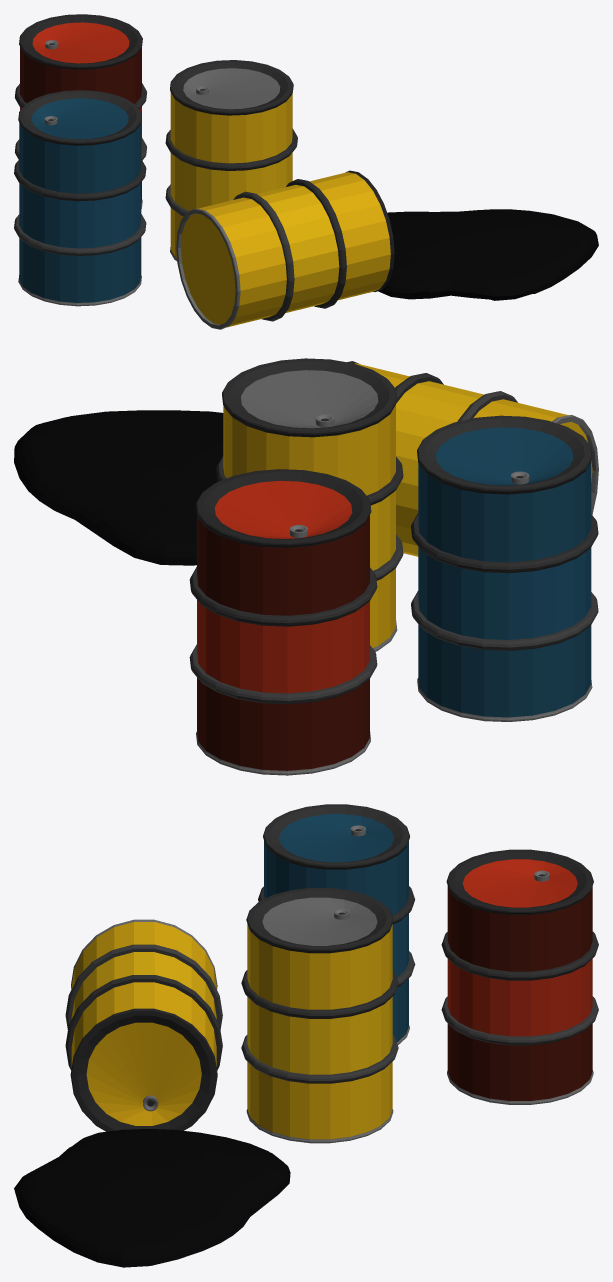
File: oil2.glb
The picture shows the model from 3 angles, top to bottom: view 1: azimuth 30°, elevation 25°; view 2: azimuth 150°, elevation 25°; view 3: azimuth 270°, elevation 25°; orthographic projection. The views are drawn at different scales.
Visible parts, largest first — view 1: PP_Oil_barrel_yellow01, PP_Oil_barrel_blue, PP_Oil_barrel_yellow02, PP_Oil_stain, PP_Oil_barrel_red; view 2: PP_Oil_barrel_blue, PP_Oil_barrel_red, PP_Oil_stain, PP_Oil_barrel_yellow02, PP_Oil_barrel_yellow01; view 3: PP_Oil_barrel_yellow02, PP_Oil_barrel_red, PP_Oil_barrel_yellow01, PP_Oil_stain, PP_Oil_barrel_blue.
Boxes of the visible parts, <box> form: PP_Oil_barrel_yellow01: <box>176,170,394,329</box>; PP_Oil_barrel_blue: <box>14,90,146,306</box>; PP_Oil_barrel_yellow02: <box>165,60,297,261</box>; PP_Oil_stain: <box>378,209,598,300</box>; PP_Oil_barrel_red: <box>14,14,146,208</box>; PP_Oil_barrel_blue: <box>411,415,598,721</box>; PP_Oil_barrel_red: <box>189,469,377,775</box>; PP_Oil_stain: <box>14,410,223,565</box>; PP_Oil_barrel_yellow02: <box>216,358,403,651</box>; PP_Oil_barrel_yellow01: <box>347,361,598,556</box>; PP_Oil_barrel_yellow02: <box>241,888,398,1143</box>; PP_Oil_barrel_red: <box>441,849,598,1104</box>; PP_Oil_barrel_yellow01: <box>65,919,222,1131</box>; PP_Oil_stain: <box>14,1128,290,1267</box>; PP_Oil_barrel_blue: <box>258,804,415,1044</box>.
Size of the model in its own units: 2.96 by 0.9611 by 2.61.
Materials: 1 (1 with a texture image).
